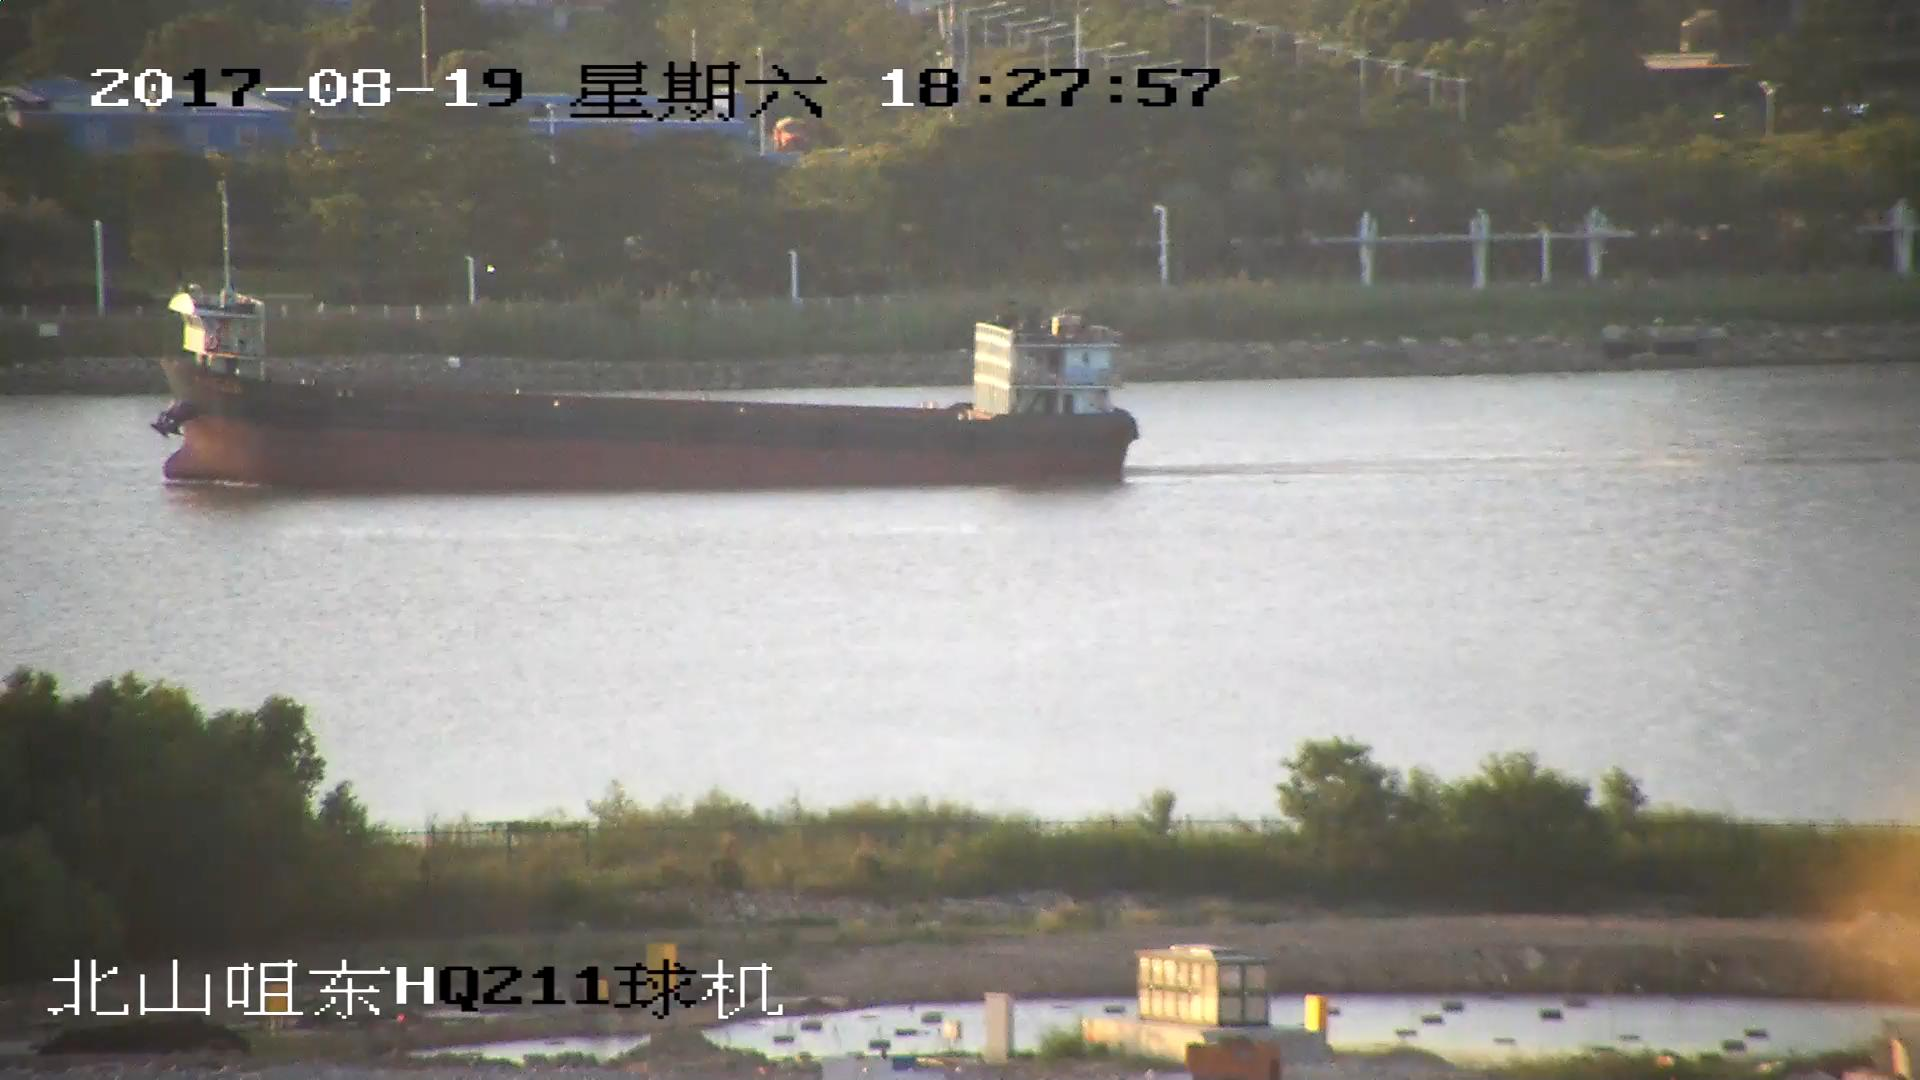general cargo ship: (149, 277, 1138, 498)
